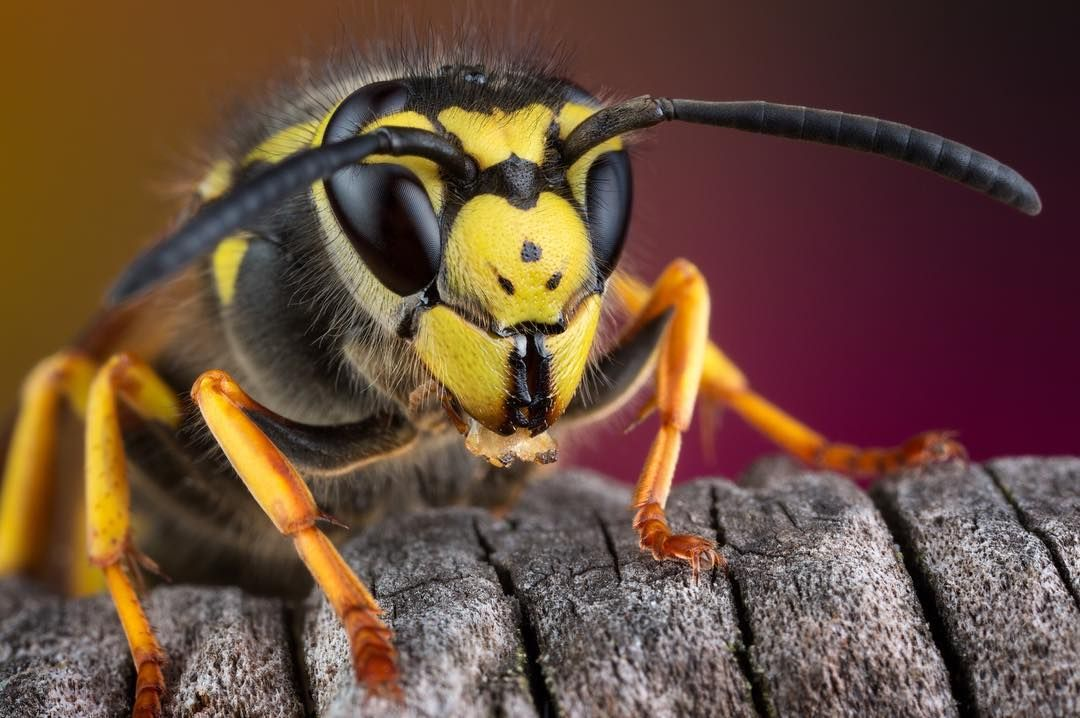chax: (2, 25, 1059, 690)
